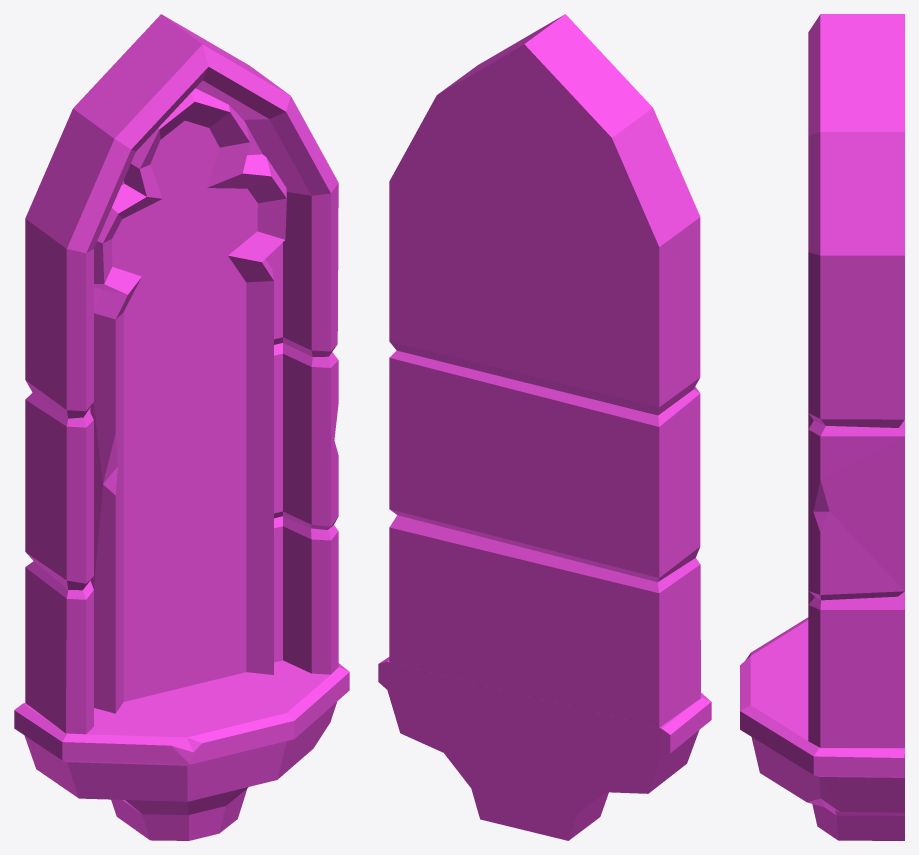
The model's file is SM_Mirror_Wall_B_Fantasy.fbx.
3 renders of one model, left to right at view 1: azimuth 30°, elevation 25°; view 2: azimuth 150°, elevation 25°; view 3: azimuth 270°, elevation 25°, orthographic. The views are drawn at different scales.
Parts seen in each view (by area): view 1: SM_Mirror_Wall_B_Fantasy; view 2: SM_Mirror_Wall_B_Fantasy; view 3: SM_Mirror_Wall_B_Fantasy.
Part boxes in pixels (left/top/right/bottom): SM_Mirror_Wall_B_Fantasy: left=14, top=14, right=349, bottom=840; SM_Mirror_Wall_B_Fantasy: left=378, top=14, right=711, bottom=840; SM_Mirror_Wall_B_Fantasy: left=740, top=14, right=904, bottom=840.
Bounding box in the file's own units: 0.6997 × 1.8 × 0.3342.
